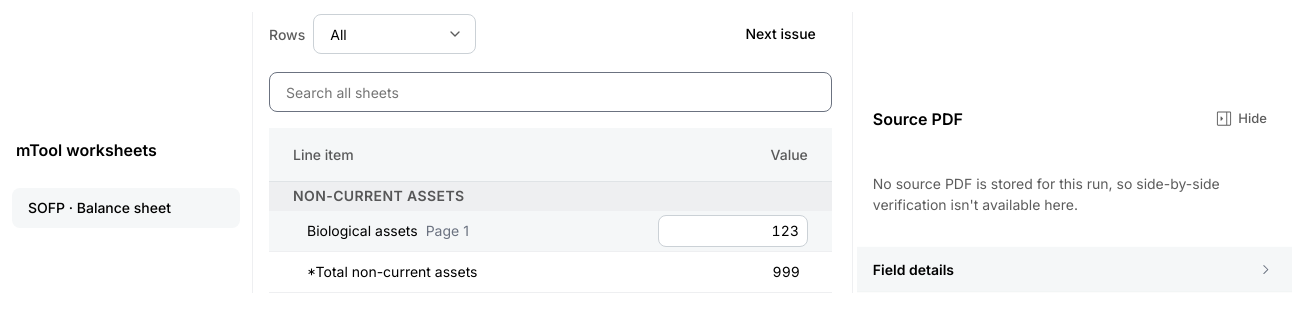
ConceptsPage › a value edit refreshes the reconciliation queue
Step 1. Replace the text in the field with test id "value-input-leaf-1" with "999" → [733, 231], box [658,215,808,247]
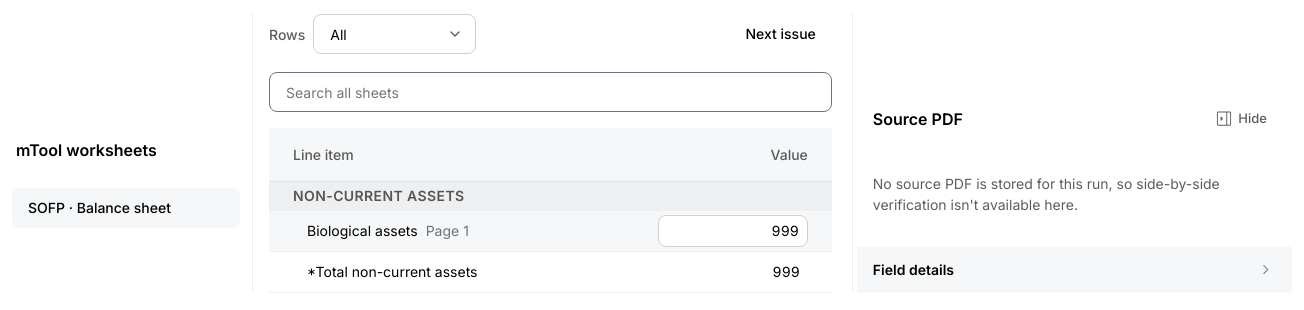
Step 2. Leave the field with test id "value-input-leaf-1", box [658,215,808,247]
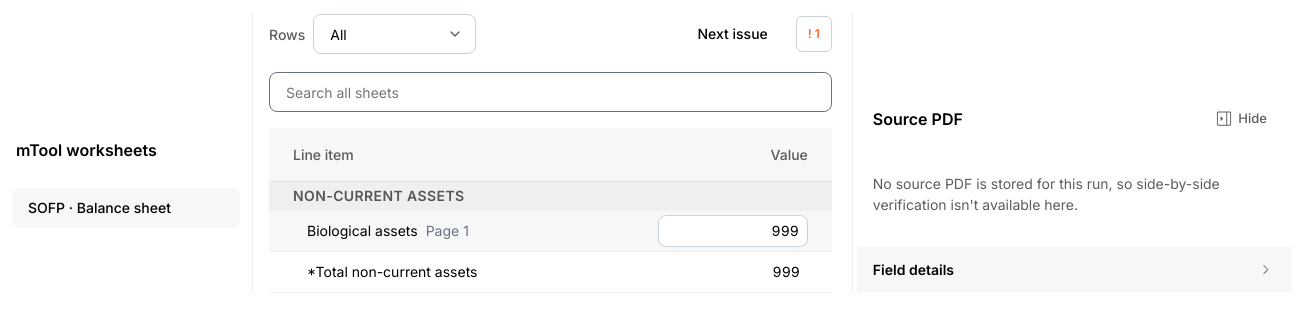
Check: the button with test id "review-attention-control" shows "1", box [796,16,832,52]
